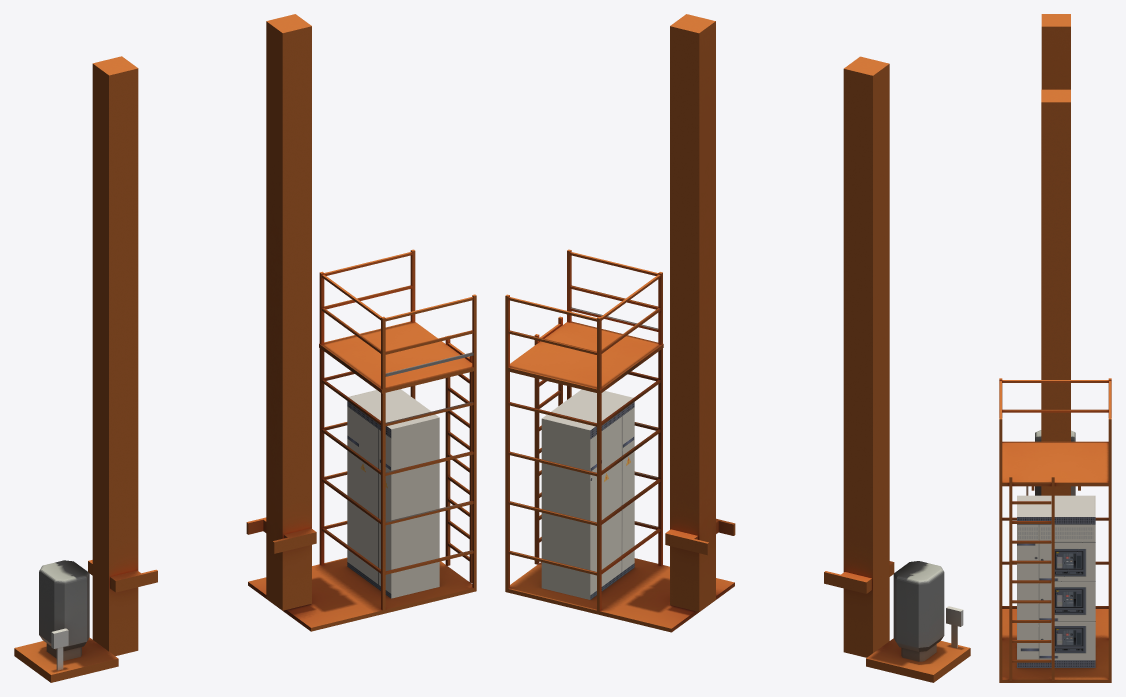
The model's file is forklift.serva.3343.obj.
3 renders of one model, left to right at view 1: azimuth 30°, elevation 25°; view 2: azimuth 150°, elevation 25°; view 3: azimuth 270°, elevation 25°, orthographic. The views are drawn at different scales.
Parts seen in each view (by area): view 1: Box08, Rectangle01, Box05; view 2: Box08, Rectangle01, Box05; view 3: Rectangle01, Box08, Box05.
Part boxes in pixels (x1=…): Box08: x1=88, y1=14, x2=316, y2=655; Rectangle01: x1=14, y1=249, x2=476, y2=682; Box05: x1=347, y1=389, x2=439, y2=598; Box08: x1=665, y1=14, x2=894, y2=657; Rectangle01: x1=505, y1=249, x2=970, y2=682; Box05: x1=541, y1=389, x2=634, y2=599; Rectangle01: x1=999, y1=378, x2=1111, y2=682; Box08: x1=1031, y1=14, x2=1080, y2=495; Box05: x1=1017, y1=495, x2=1095, y2=667.
Bounding box in the file's own units: 566 × 756 × 149.
